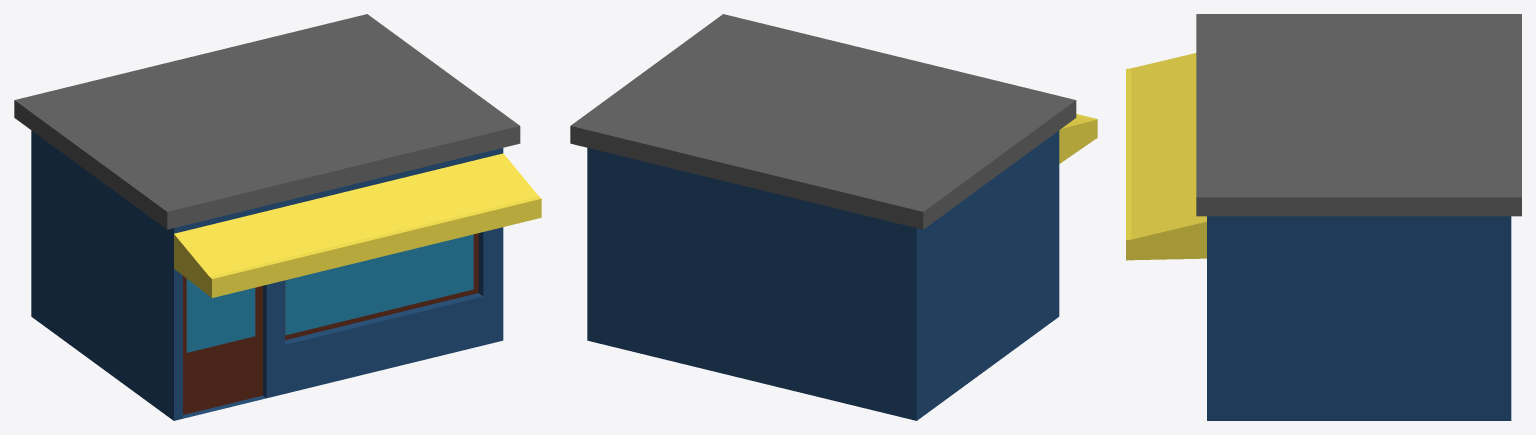
Rendered from D_kiosk.fbx.
The picture shows the model from 3 angles, left to right: view 1: azimuth 30°, elevation 25°; view 2: azimuth 150°, elevation 25°; view 3: azimuth 270°, elevation 25°; orthographic projection. The views are drawn at different scales.
Parts seen in each view (by area): view 1: kiosk.002, kiosk.006, kiosk.001, kiosk.007, kiosk.016, kiosk.017, kiosk.003, kiosk.024, kiosk.013, kiosk.005, kiosk.012, kiosk.018 (+3 smaller); view 2: kiosk.011, kiosk.004, kiosk.017, kiosk.016, kiosk.002, kiosk.006, kiosk.001, kiosk.003, kiosk.010, kiosk.013, kiosk.014, kiosk.008 (+4 smaller); view 3: kiosk.002, kiosk.003, kiosk.018, kiosk.011, kiosk.016, kiosk.001, kiosk.017, kiosk.025, kiosk.007, kiosk.014, kiosk.022, kiosk.006.
Part boxes in pixels (x1,y1,x2,y2): kiosk.002: (200,90,541,265); kiosk.006: (71,206,327,420); kiosk.001: (78,131,300,262); kiosk.007: (328,256,503,375); kiosk.016: (145,43,456,131); kiosk.017: (14,68,198,205); kiosk.003: (248,14,468,89); kiosk.024: (55,244,137,393); kiosk.013: (31,188,70,303); kiosk.005: (300,256,395,322); kiosk.012: (254,323,359,399); kiosk.018: (396,88,503,265); kiosk.011: (570,134,768,316); kiosk.004: (687,297,940,420); kiosk.017: (779,128,991,271); kiosk.016: (681,55,893,209); kiosk.002: (680,14,991,128); kiosk.006: (956,114,1097,342); kiosk.001: (895,79,1076,237); kiosk.003: (570,51,733,193); kiosk.010: (769,209,934,297); kiosk.013: (841,272,956,372); kiosk.014: (587,306,721,364); kiosk.008: (722,227,840,306); kiosk.002: (1126,57,1354,260); kiosk.003: (1138,135,1521,321); kiosk.018: (1207,192,1363,360); kiosk.011: (1364,206,1521,394); kiosk.016: (1308,69,1521,191); kiosk.001: (1126,14,1376,113); kiosk.017: (1355,14,1521,81); kiosk.025: (1235,360,1405,420); kiosk.007: (1207,341,1313,420); kiosk.014: (1386,373,1511,420); kiosk.022: (1314,322,1385,372); kiosk.006: (1126,55,1185,106).
Bounding box in the file's own units: 428 × 250 × 391.
